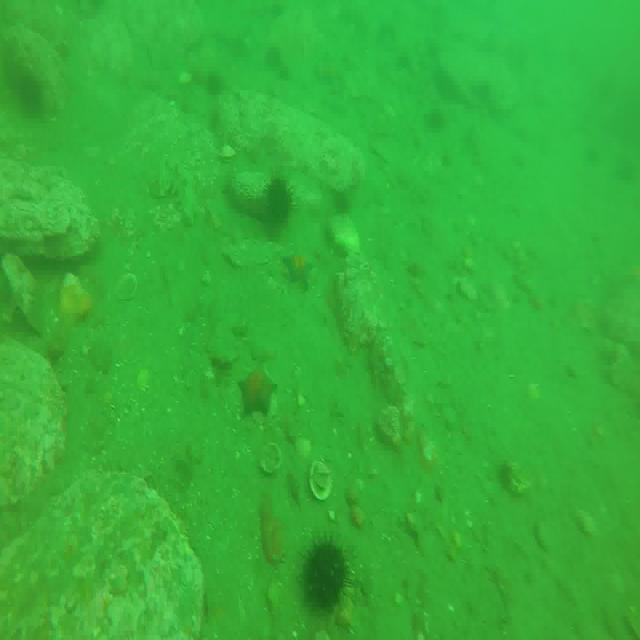echinus: (305, 538, 351, 609), (270, 174, 292, 222), (22, 73, 44, 117)
holothurian: (159, 123, 198, 229)
scallop: (376, 404, 404, 448), (310, 457, 337, 502), (259, 440, 285, 479), (114, 272, 138, 306), (216, 137, 237, 168)
starfish: (238, 365, 276, 415), (284, 248, 314, 290)
